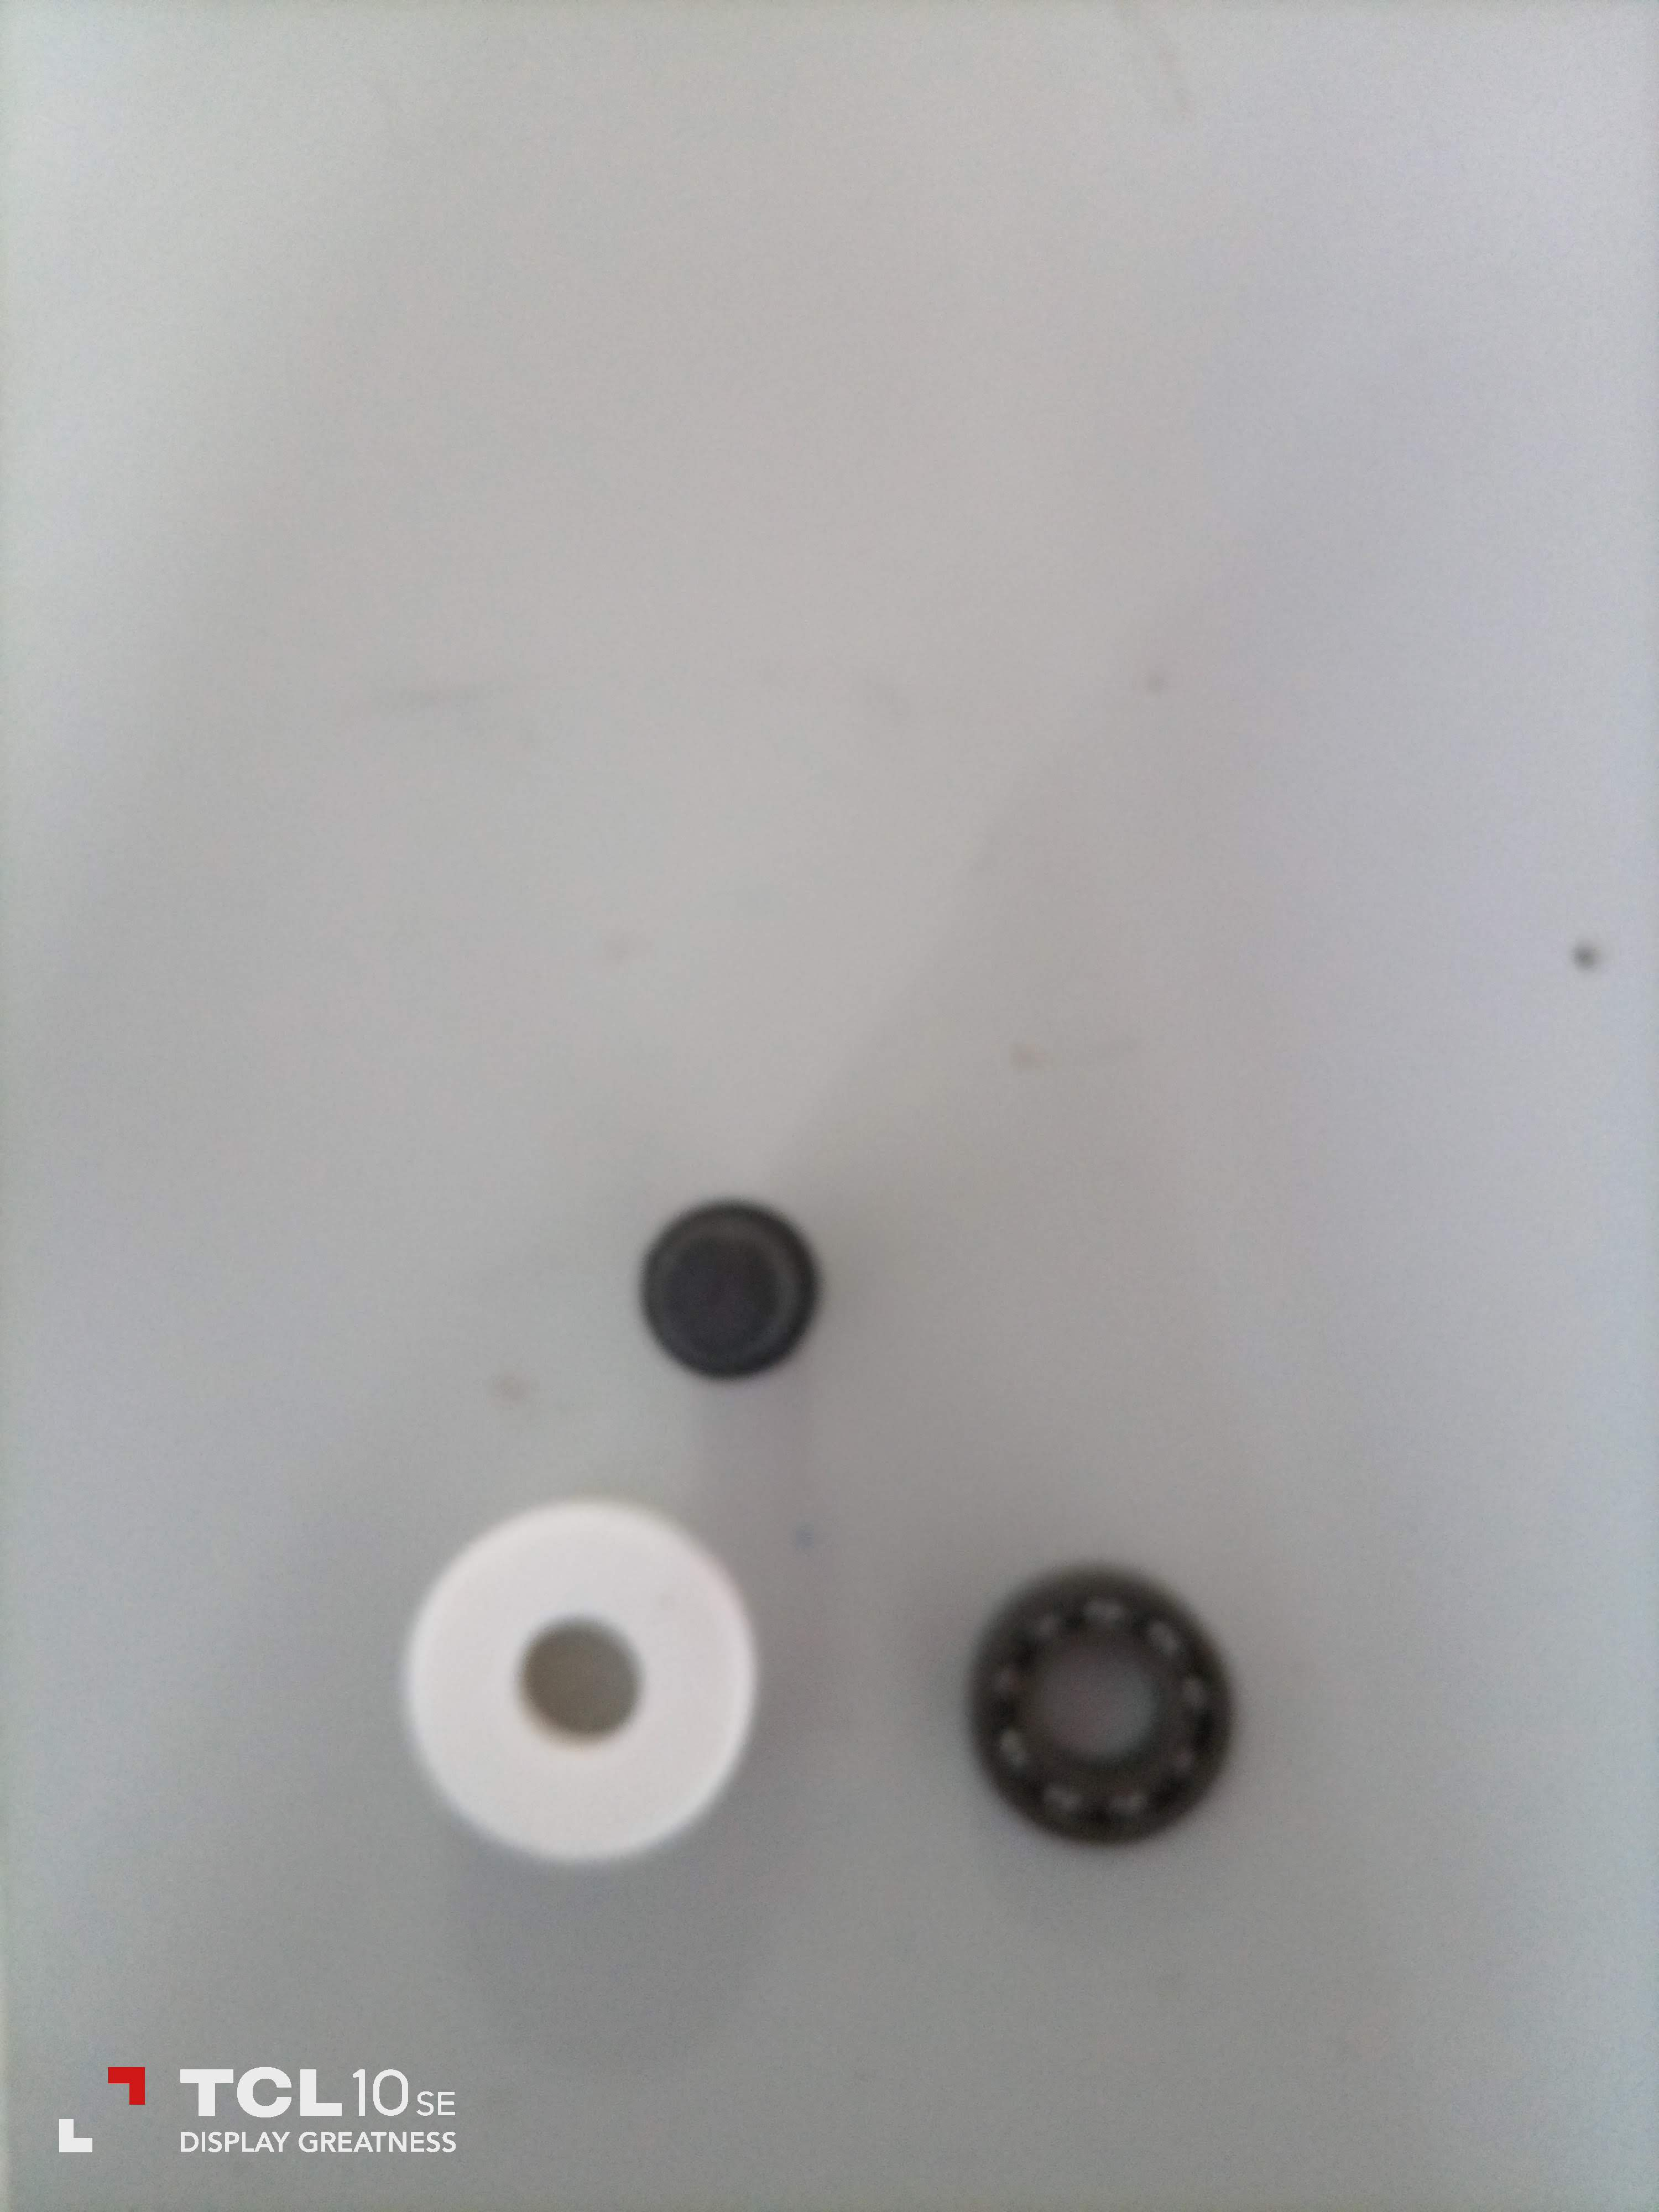Ardatza: (631, 1195, 863, 1386)
Roda: (974, 1562, 1230, 1855)
Tapa: (401, 1496, 774, 1881)
